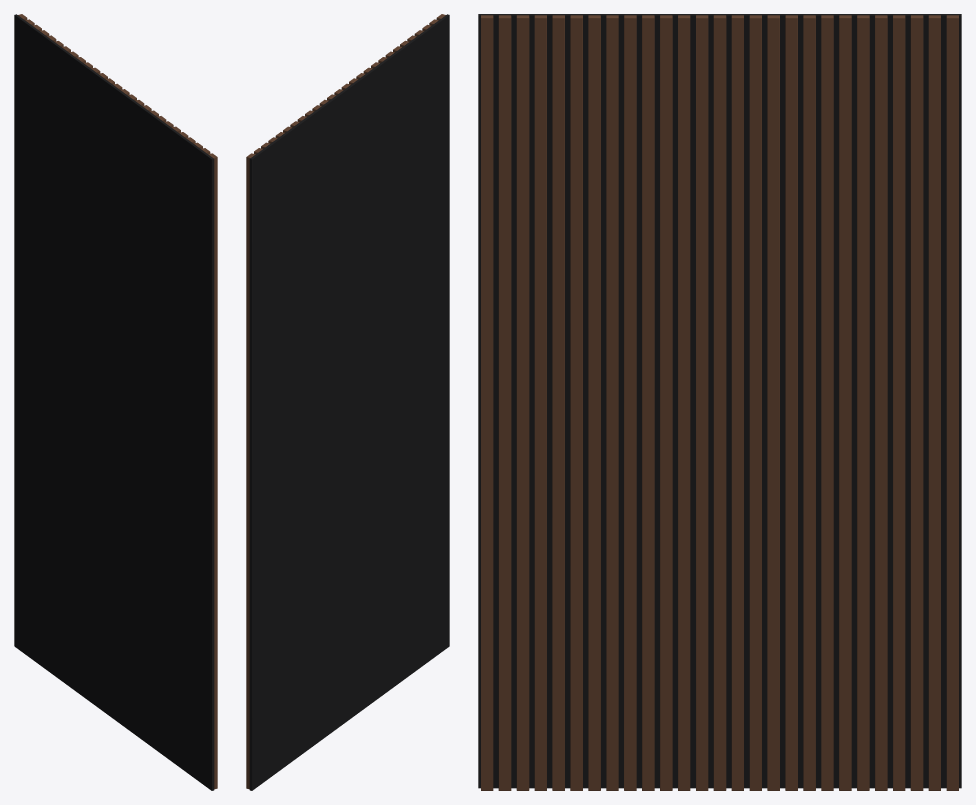
Rendered from slat_panel.fbx.
The picture shows the model from 3 angles, left to right: view 1: azimuth 30°, elevation 25°; view 2: azimuth 150°, elevation 25°; view 3: azimuth 270°, elevation 25°; orthographic projection. The views are drawn at different scales.
Visible parts, largest first — view 1: slat_panel; view 2: slat_panel; view 3: slat_panel.
Boxes of the visible parts, bbox=[...] form: slat_panel: bbox=[14, 14, 217, 790]; slat_panel: bbox=[246, 14, 449, 790]; slat_panel: bbox=[478, 14, 961, 790].
Size of the model in its own units: 0.0345 by 1.7 by 3.
